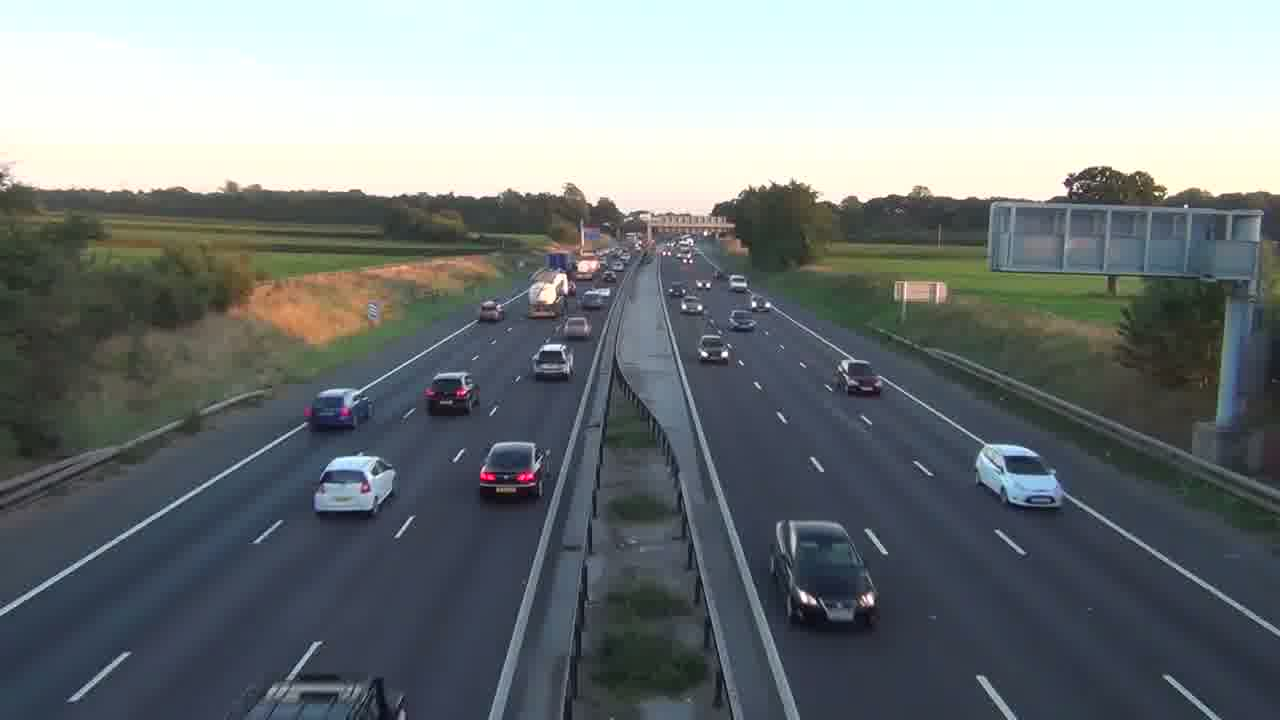car: (769, 519, 880, 629), (974, 442, 1064, 511), (313, 454, 398, 518), (478, 440, 548, 501), (423, 371, 481, 416), (832, 358, 882, 397), (530, 341, 574, 382), (696, 333, 734, 365), (728, 308, 756, 331)
